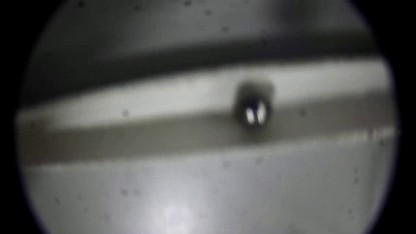gangzhu: (238, 94, 273, 127)
